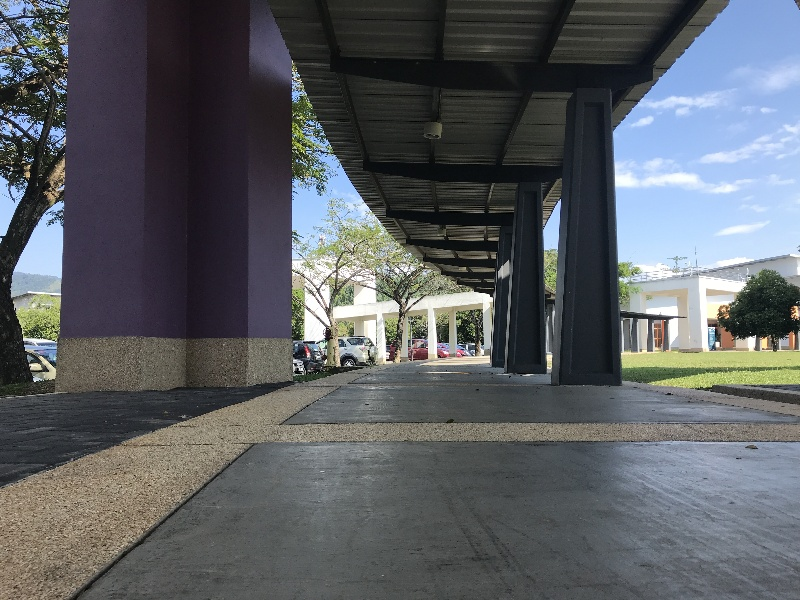Block D Pillar 6: (7, 4, 800, 542)
pillar: (56, 6, 292, 396), (555, 81, 629, 396), (494, 176, 552, 388)
